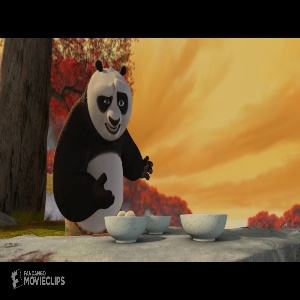po: (50, 57, 157, 234)
